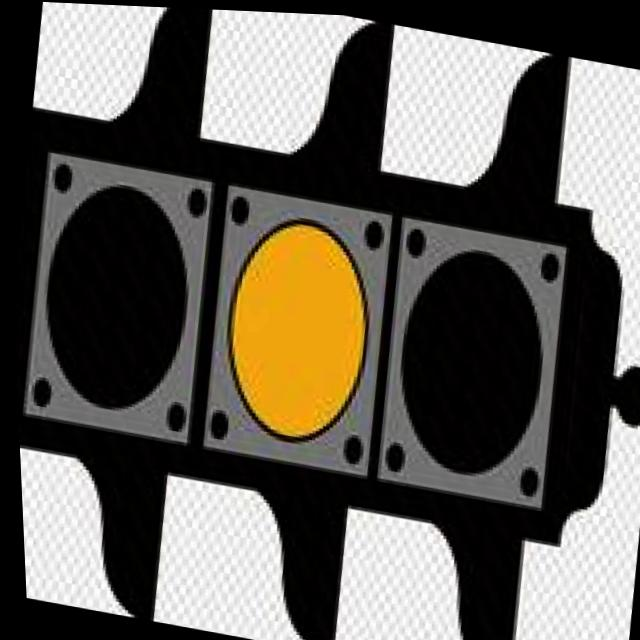yellow_light: (159, 162, 416, 525)
